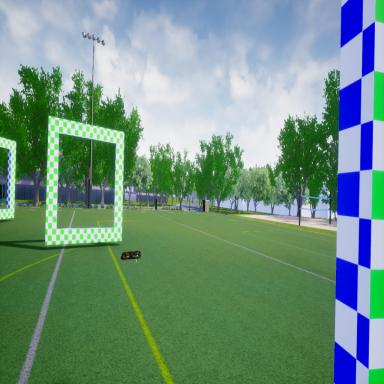gate: (44, 112, 126, 251)
